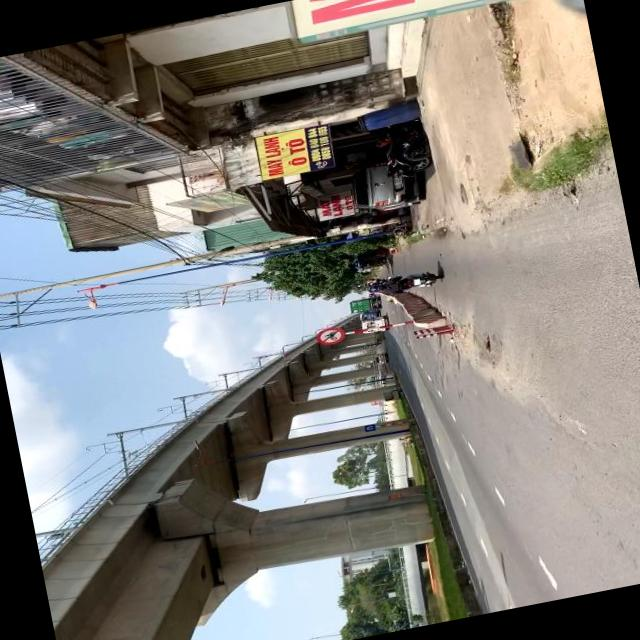P-104: (310, 325, 348, 348)
